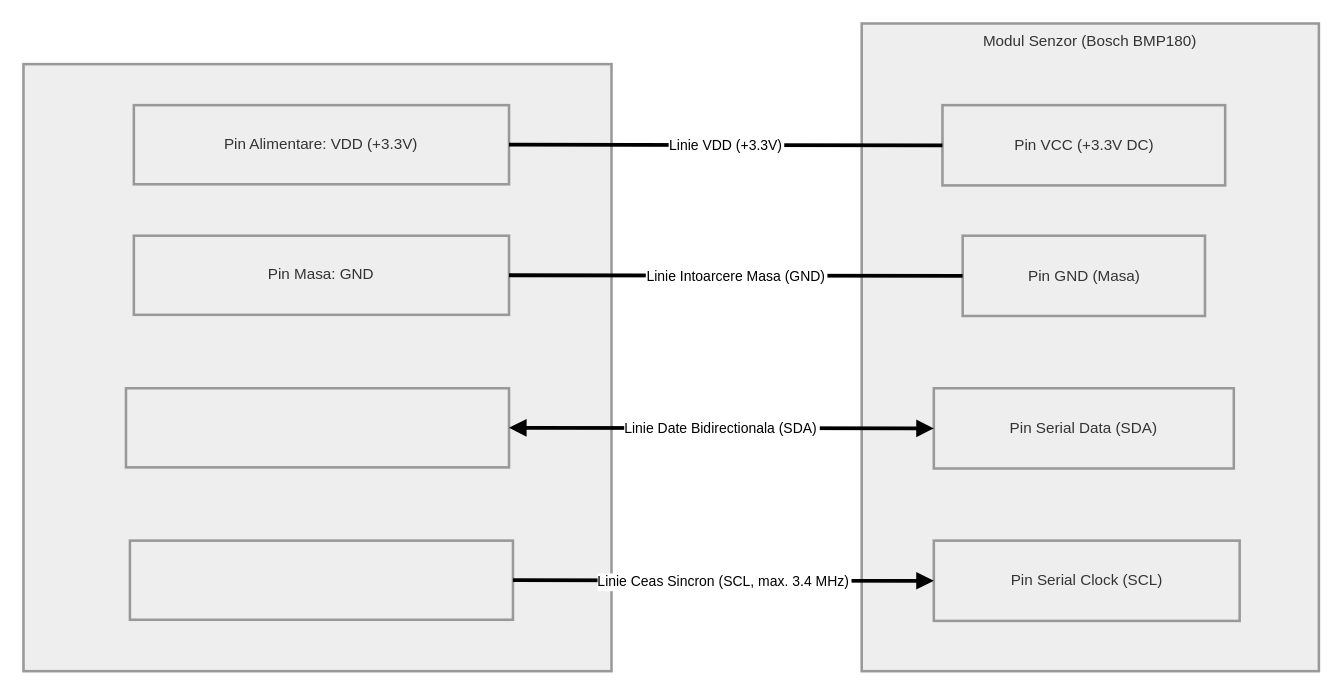
Some shapes in this 1341 by 693 pixel diagram are drawn without their labels. The shapes that lost their labels are listed below. From the top down, each one's box as (x1, y1, x2, y2) in pixels, then its label:
(22, 62, 612, 672): Platforma de Dezvoltare (Nordic nRF52840-DK)
(124, 386, 510, 468): Pin GPIO P0.26: I2C0_SDA
(128, 539, 514, 620): Pin GPIO P0.27: I2C0_SCL
